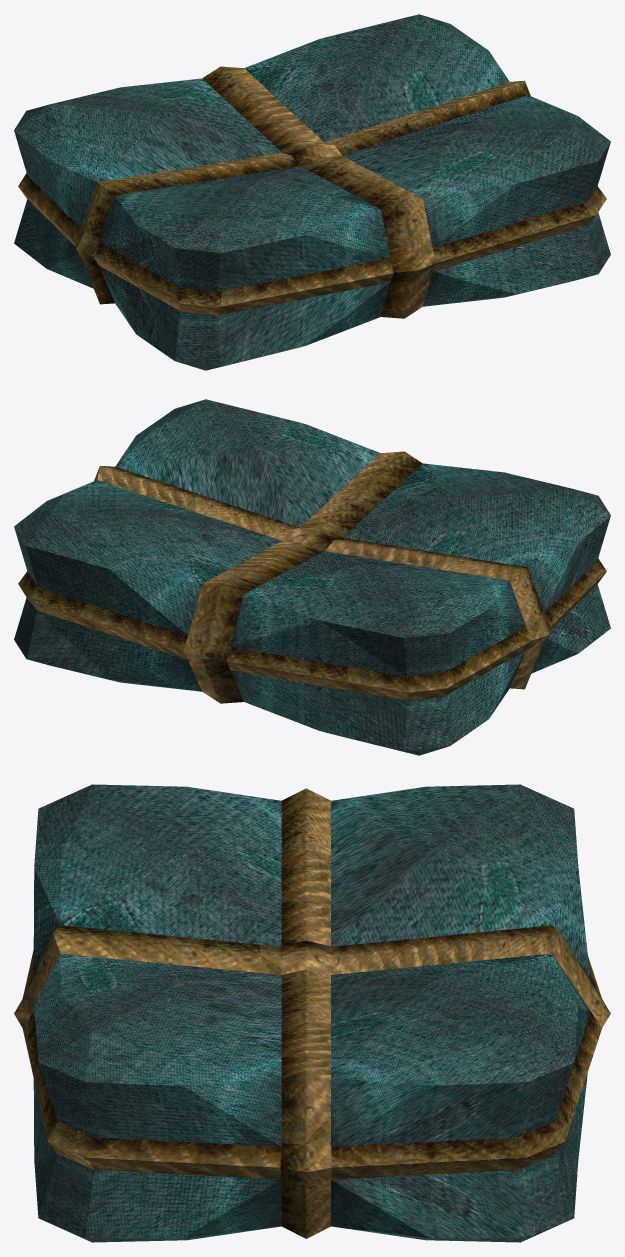
File: KM_ITMI_PACKET_02.glb
3 views of the same model, one above another, from view 1: azimuth 30°, elevation 25°; view 2: azimuth 150°, elevation 25°; view 3: azimuth 270°, elevation 25° (orthographic). The views are drawn at different scales.
Visible parts, largest first — view 1: KM_ITMI_PACKET_02; view 2: KM_ITMI_PACKET_02; view 3: KM_ITMI_PACKET_02.
Boxes of the visible parts, x1=… form: KM_ITMI_PACKET_02: x1=14, y1=14, x2=610, y2=370; KM_ITMI_PACKET_02: x1=14, y1=399, x2=610, y2=755; KM_ITMI_PACKET_02: x1=14, y1=784, x2=610, y2=1242.
Size of the model in its own units: 0.4578 by 0.1414 by 0.364.
2 materials, 2 textured.
